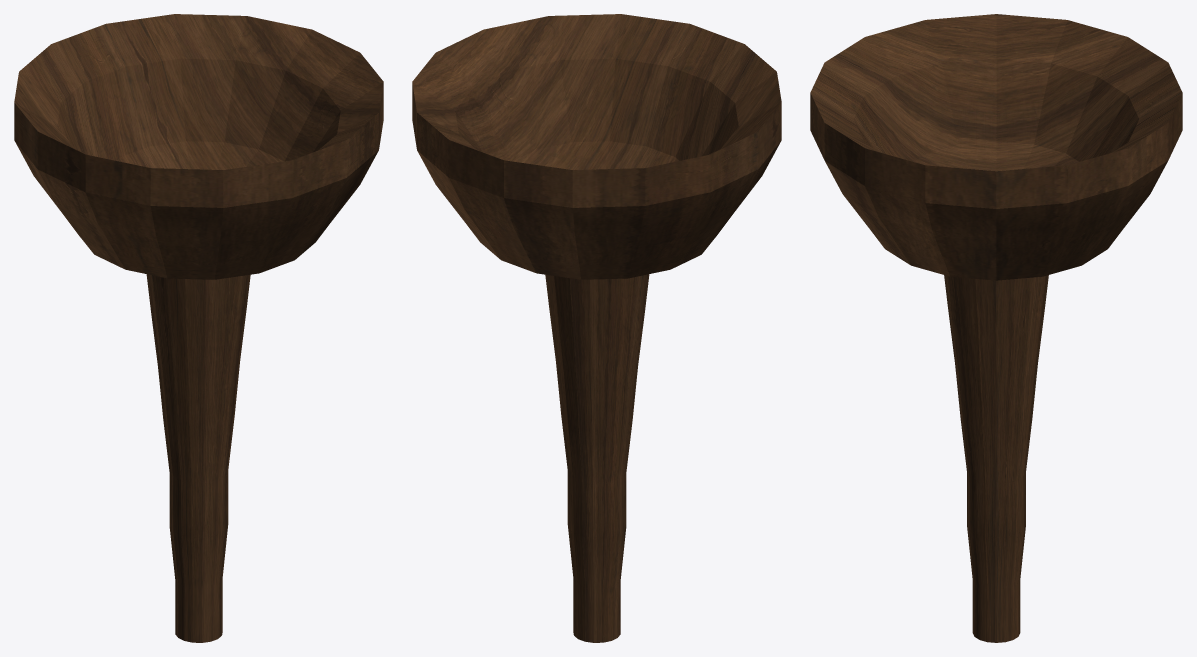
File: torch.fbx
The picture shows the model from 3 angles, left to right: view 1: azimuth 30°, elevation 25°; view 2: azimuth 150°, elevation 25°; view 3: azimuth 270°, elevation 25°; orthographic projection.
Parts seen in each view (by area): view 1: Cylinder, Cylinder_2; view 2: Cylinder, Cylinder_2; view 3: Cylinder, Cylinder_2.
Part boxes in pixels (box(x1,y1,x2,y2)): Cylinder: box(14, 14, 383, 279); Cylinder_2: box(146, 274, 250, 642); Cylinder: box(412, 14, 781, 279); Cylinder_2: box(545, 274, 649, 642); Cylinder: box(810, 14, 1182, 280); Cylinder_2: box(944, 275, 1048, 642).
Size of the model in its own units: 1.07 by 1.72 by 1.07.
1 material, 1 textured.
